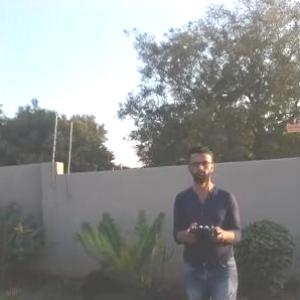follow: (169, 138, 251, 299)
